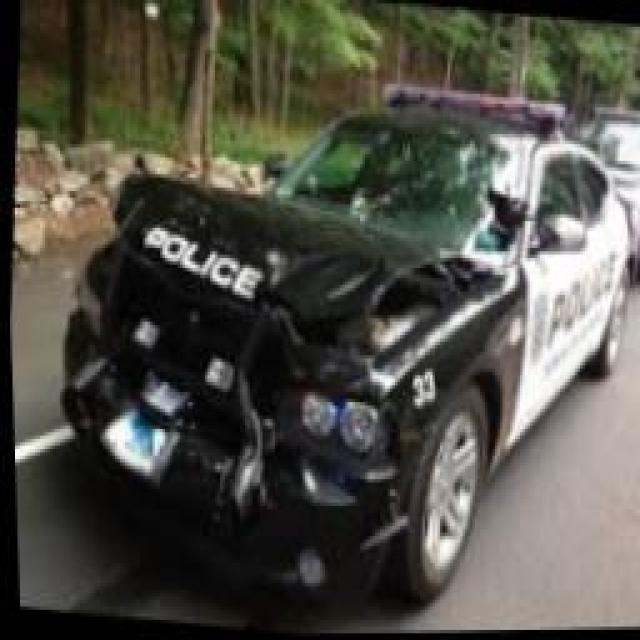Bonnet: (107, 175, 494, 352)
Bumper: (53, 318, 404, 607)
Fender: (363, 318, 472, 481)
